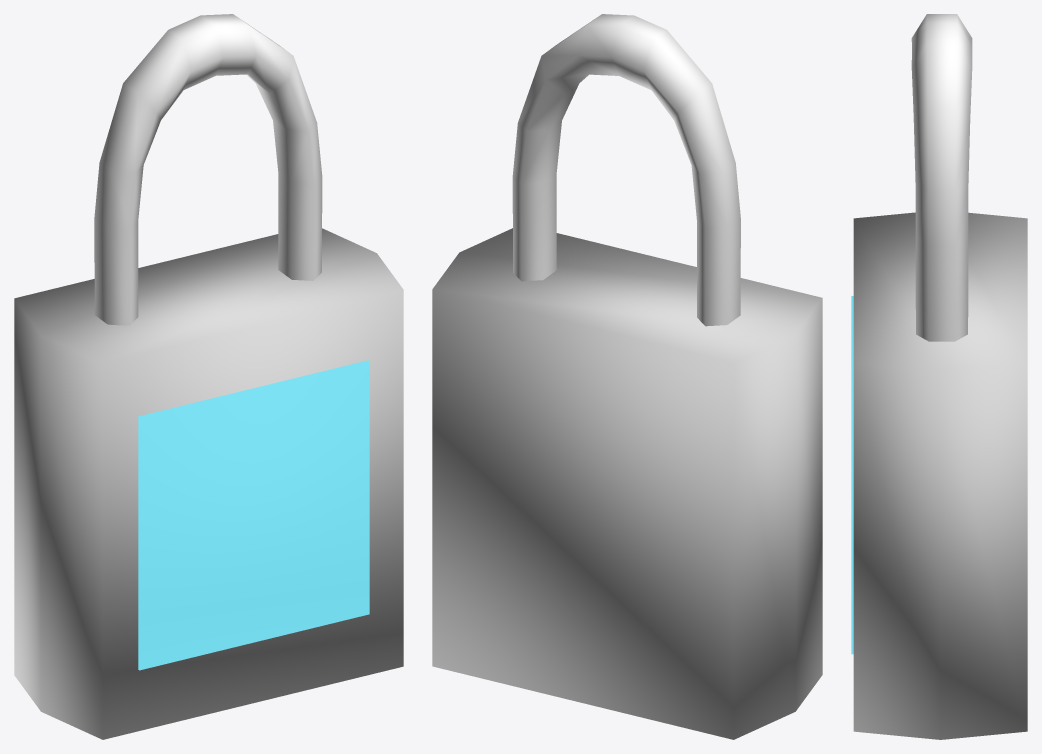
File: Lock.glb
The picture shows the model from 3 angles, left to right: view 1: azimuth 30°, elevation 25°; view 2: azimuth 150°, elevation 25°; view 3: azimuth 270°, elevation 25°; orthographic projection. The views are drawn at different scales.
Parts seen in each view (by area): view 1: lock; view 2: lock; view 3: lock.
Part boxes in pixels (bbox=[...]): lock: bbox=[14, 14, 403, 739]; lock: bbox=[432, 14, 822, 739]; lock: bbox=[851, 14, 1027, 739].
Bounding box in the file's own units: 0.2226 × 0.4111 × 0.1032.
